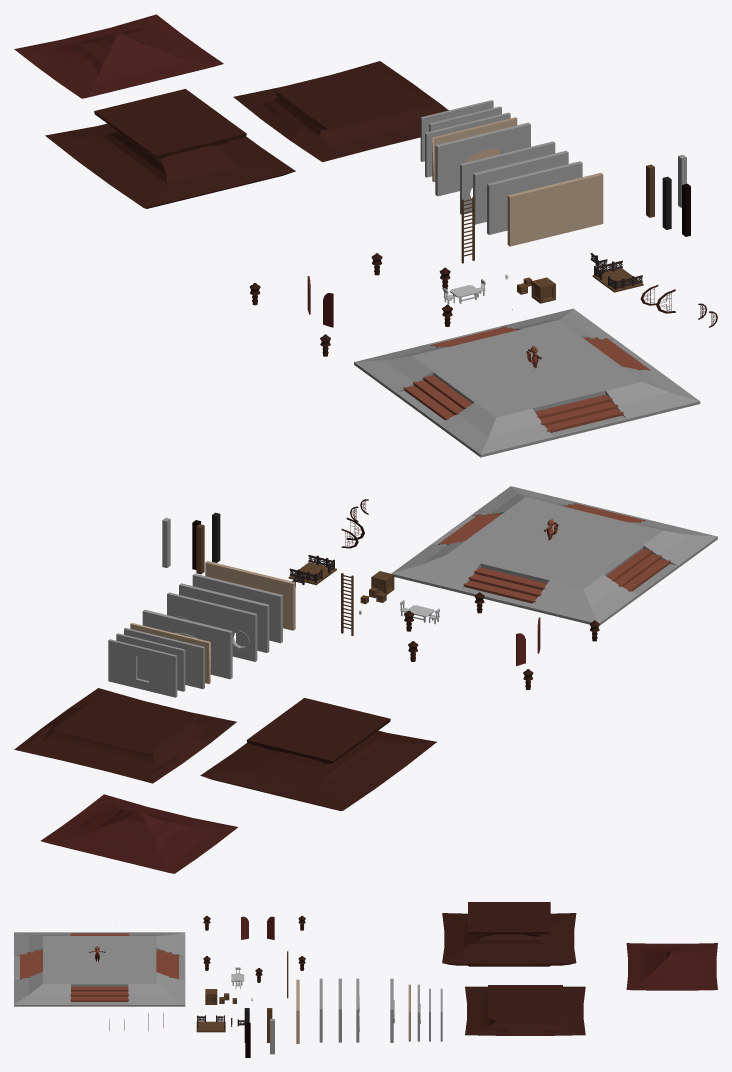
Rendered from Building_interior.fbx.
3 renders of one model, top to bottom at view 1: azimuth 30°, elevation 25°; view 2: azimuth 150°, elevation 25°; view 3: azimuth 270°, elevation 25°, orthographic. The views are drawn at different scales.
Parts seen in each view (by area): view 1: Cube, Cube.005, Cube.006, Cube.008, Plane.002, Plane.004, Plane.005, Plane.010, Plane, Plane.012, Plane.011, Plane.001; view 2: Cube, Cube.005, Cube.006, Cube.008, Plane.001, Plane, Plane.004, Plane.002, Plane.010, Plane.005, Plane.011, Plane.013 (+2 smaller); view 3: Cube, Cube.005, Cube.006, Cube.008, Plane.003, Cube.001, Cylinder.001, Plane.004.
Part boxes in pixels (left/top/right/bottom): Cube: left=354, top=308, right=700, bottom=457; Cube.005: left=45, top=89, right=295, bottom=208; Cube.006: left=233, top=61, right=448, bottom=162; Cube.008: left=14, top=14, right=223, bottom=98; Plane.002: left=507, top=172, right=603, bottom=246; Plane.004: left=435, top=122, right=530, bottom=196; Plane.005: left=487, top=161, right=582, bottom=234; Plane.010: left=473, top=150, right=568, bottom=224; Plane: left=460, top=141, right=555, bottom=214; Plane.012: left=432, top=117, right=517, bottom=181; Plane.011: left=425, top=112, right=510, bottom=177; Plane.001: left=420, top=100, right=493, bottom=161; Cube: left=391, top=486, right=717, bottom=625; Cube.005: left=200, top=698, right=436, bottom=810; Cube.006: left=14, top=688, right=236, bottom=783; Cube.008: left=41, top=794, right=238, bottom=873; Plane.001: left=108, top=639, right=177, bottom=697; Plane: left=167, top=592, right=257, bottom=661; Plane.004: left=142, top=609, right=232, bottom=679; Plane.002: left=205, top=561, right=295, bottom=630; Plane.010: left=179, top=583, right=269, bottom=652; Plane.005: left=192, top=573, right=282, bottom=643; Plane.011: left=124, top=627, right=204, bottom=688; Plane.013: left=116, top=633, right=185, bottom=691; Cube: left=14, top=932, right=185, bottom=1006; Cube.005: left=442, top=902, right=576, bottom=966; Cube.006: left=465, top=985, right=585, bottom=1035; Cube.008: left=626, top=943, right=717, bottom=990; Plane.003: left=241, top=916, right=274, bottom=939; Cube.001: left=196, top=1021, right=225, bottom=1032; Cylinder.001: left=203, top=915, right=305, bottom=970; Plane.004: left=390, top=978, right=394, bottom=1042.
Bounding box in the file's own units: 11492 × 1763 × 24983.
